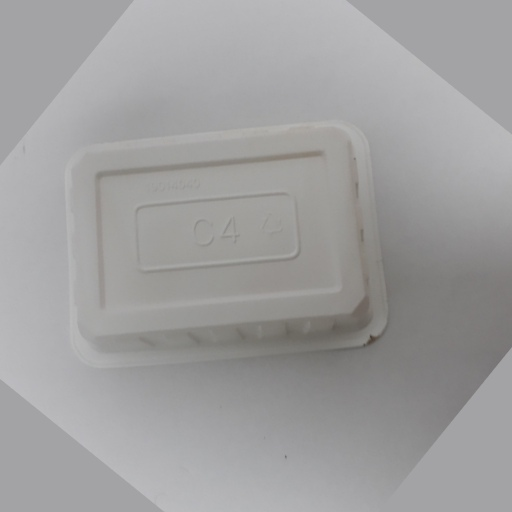Plastic_4: (59, 119, 389, 361)
